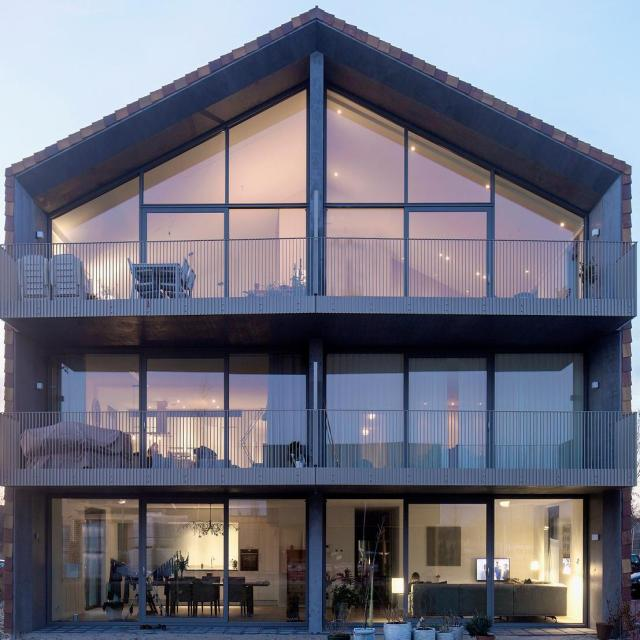Railing: (12, 240, 635, 296), (10, 410, 637, 464)
door: (139, 492, 225, 631), (404, 496, 493, 626)
wall: (0, 4, 638, 632)
windows: (50, 81, 310, 240), (326, 85, 587, 238), (59, 348, 308, 409), (326, 352, 588, 409), (50, 492, 138, 628), (495, 498, 586, 622), (228, 496, 307, 632), (329, 498, 398, 624)
